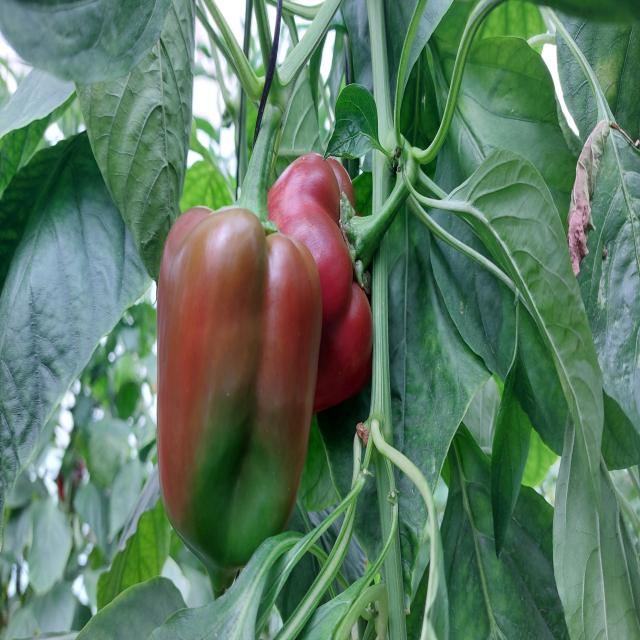BrownishRed--Can-be-Harvested: (155, 204, 316, 555), (268, 148, 378, 421)
